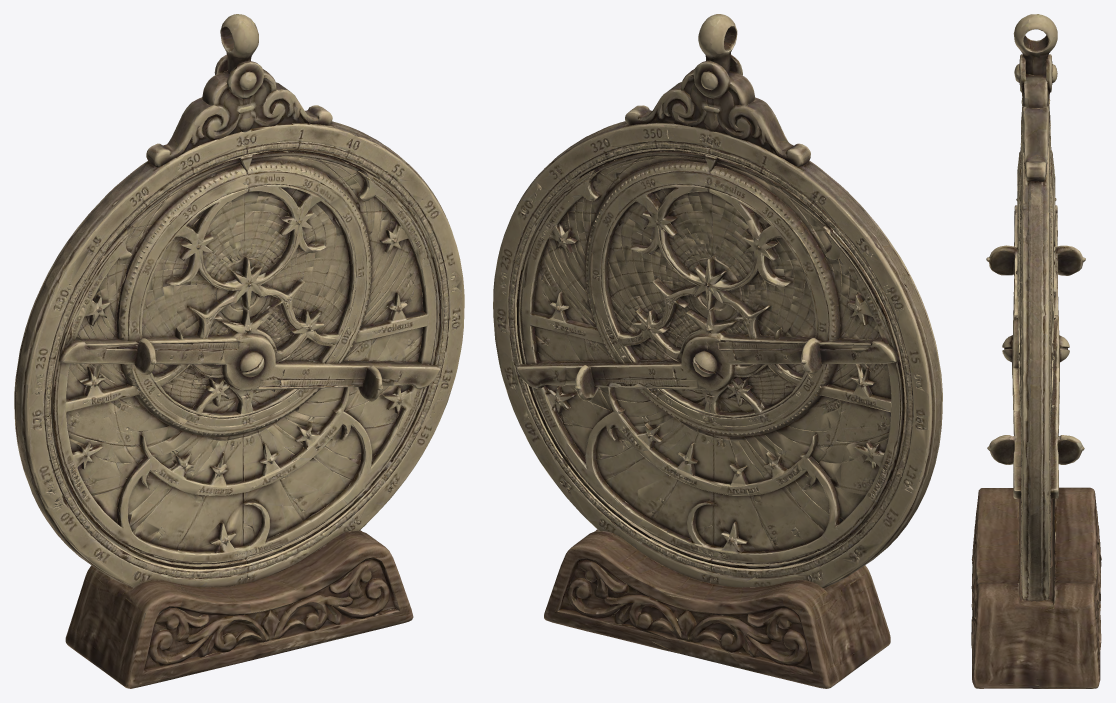
File: astrolabe-lo.glb
The picture shows the model from 3 angles, left to right: view 1: azimuth 30°, elevation 25°; view 2: azimuth 150°, elevation 25°; view 3: azimuth 270°, elevation 25°; orthographic projection.
Visible parts, largest first — view 1: Mesh_0; view 2: Mesh_0; view 3: Mesh_0.
Part boxes in pixels (x1,y1,x2,y2): Mesh_0: [14, 14, 464, 688]; Mesh_0: [493, 14, 942, 688]; Mesh_0: [971, 14, 1101, 688].
Bounding box in the file's own units: 1.42 × 1.9 × 0.3703.
Materials: 1 (1 with a texture image).
